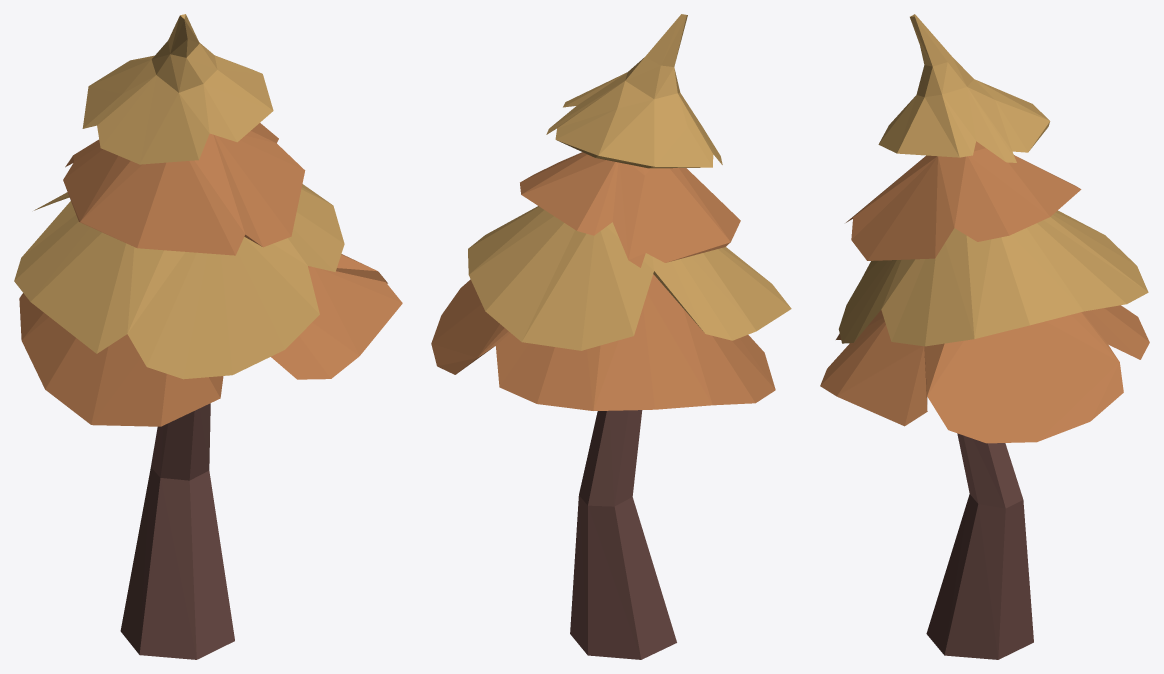
Rendered from PineTree_Autumn_5.lod2.glb.
3 views of the same model, side by side, from view 1: azimuth 30°, elevation 25°; view 2: azimuth 150°, elevation 25°; view 3: azimuth 270°, elevation 25° (orthographic). The views are drawn at different scales.
Visible parts, largest first — view 1: PineTree_Autumn_5; view 2: PineTree_Autumn_5; view 3: PineTree_Autumn_5.
Boxes of the visible parts, x1=… form: PineTree_Autumn_5: x1=14, y1=14, x2=402, y2=659; PineTree_Autumn_5: x1=431, y1=14, x2=791, y2=659; PineTree_Autumn_5: x1=820, y1=14, x2=1149, y2=659.
Size of the model in its own units: 1.46 by 2.7 by 1.32.
